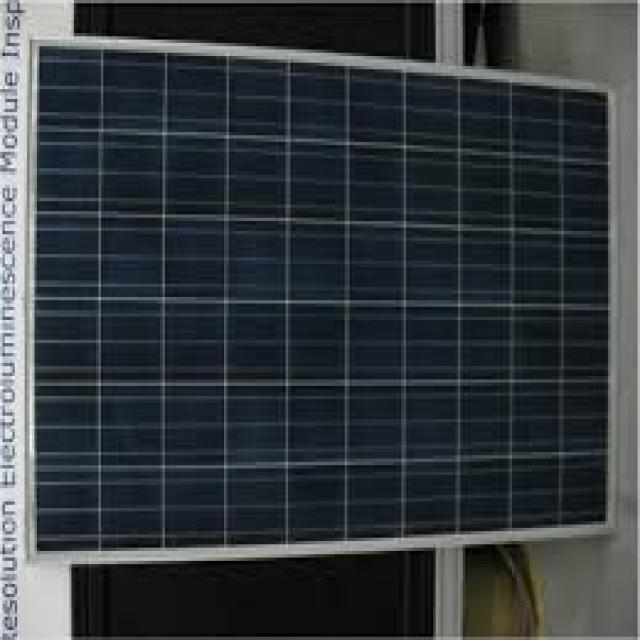no faulty: (19, 45, 614, 553)
